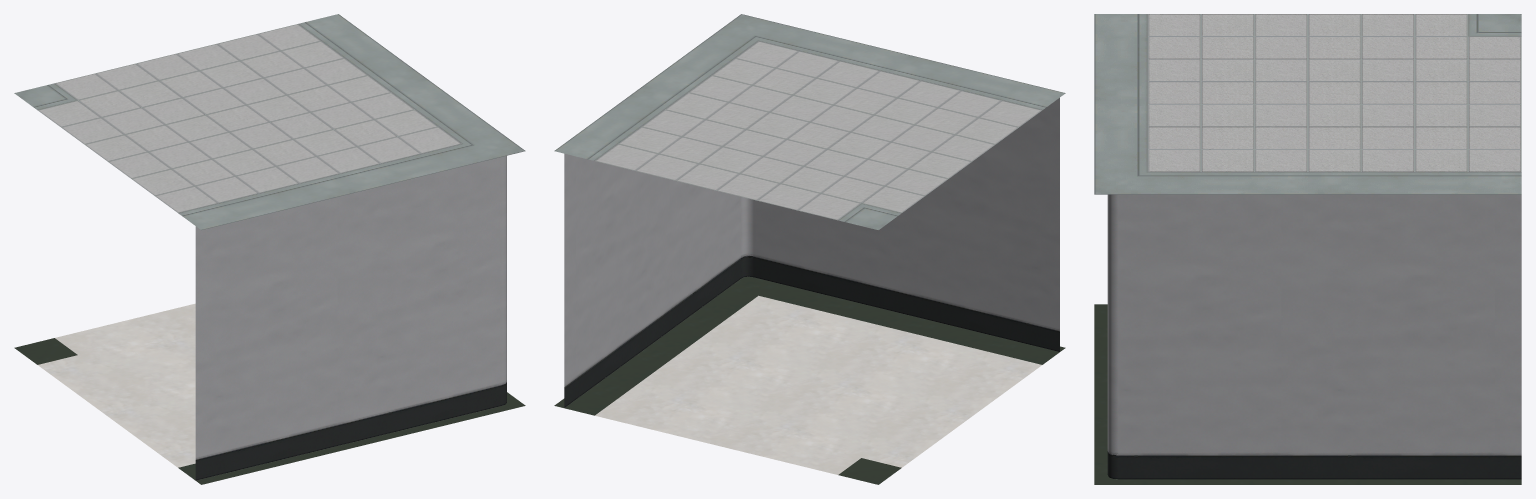
The model's file is Corridor_Corner.fbx.
3 views of the same model, side by side, from view 1: azimuth 30°, elevation 25°; view 2: azimuth 150°, elevation 25°; view 3: azimuth 270°, elevation 25° (orthographic). The views are drawn at different scales.
Visible parts, largest first — view 1: Wall_L, Ceiling_L, Marble_Floor_L; view 2: Wall_L, Ceiling_L, Marble_Floor_L; view 3: Wall_L, Ceiling_L, Marble_Floor_L.
Part boxes in pixels (<box>): Wall_L: <box>195,156,506,480</box>; Ceiling_L: <box>14,14,525,230</box>; Marble_Floor_L: <box>14,303,525,484</box>; Wall_L: <box>564,98,1059,407</box>; Ceiling_L: <box>554,14,1065,230</box>; Marble_Floor_L: <box>554,276,1065,484</box>; Wall_L: <box>1107,194,1521,479</box>; Ceiling_L: <box>1094,14,1521,194</box>; Marble_Floor_L: <box>1094,304,1521,484</box>.
Size of the model in its own units: 4 by 3 by 4.
Materials: 4 (4 with a texture image).
